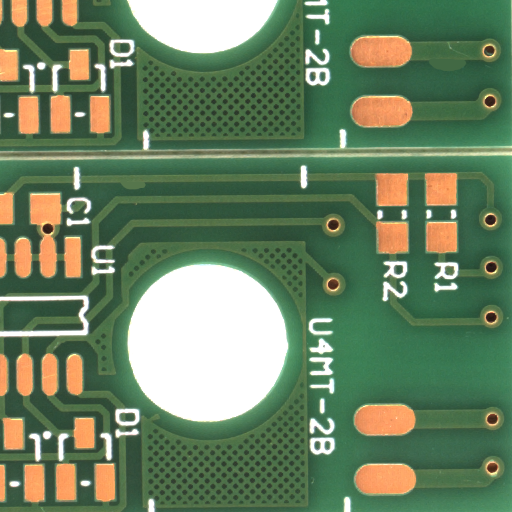Spur: (447, 65, 495, 83), (132, 185, 163, 197)
